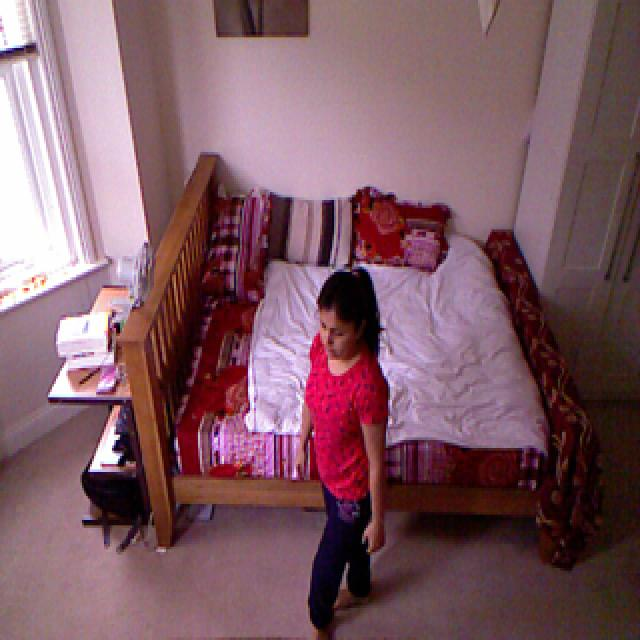standing: (299, 250, 391, 634)
